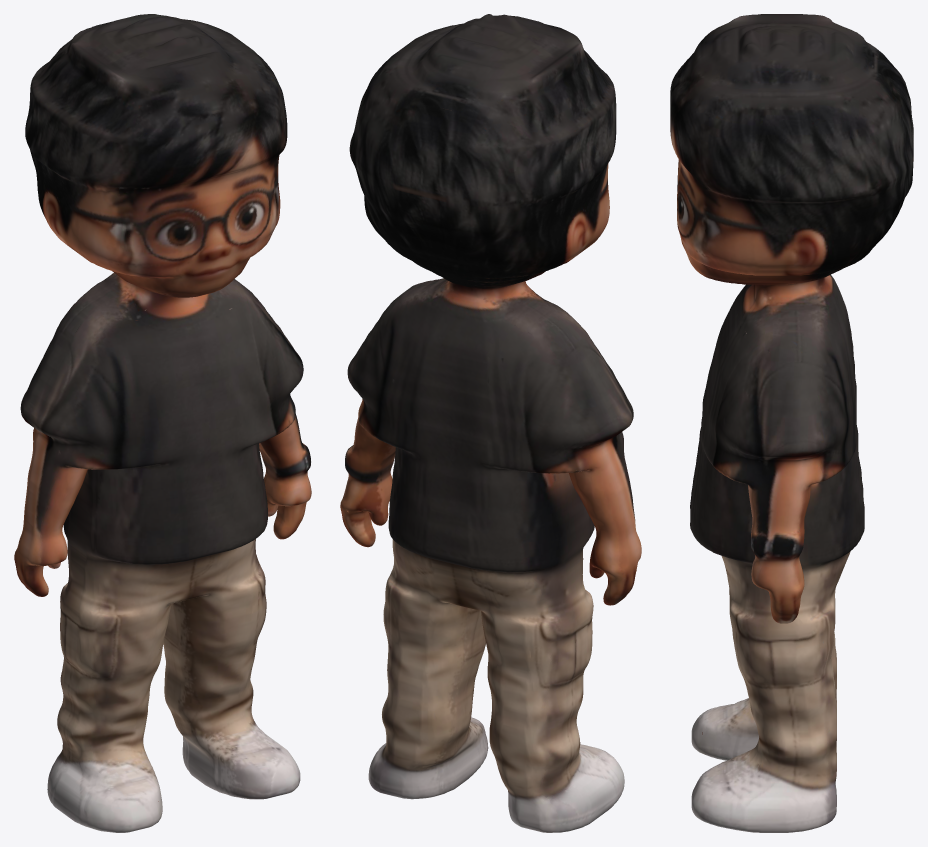
The model's file is character_high.glb.
3 views of the same model, side by side, from view 1: azimuth 30°, elevation 25°; view 2: azimuth 150°, elevation 25°; view 3: azimuth 270°, elevation 25° (orthographic). The views are drawn at different scales.
Parts seen in each view (by area): view 1: character_high; view 2: character_high; view 3: character_high.
Part boxes in pixels (x1,y1,x2,y2): character_high: (14, 14, 311, 832); character_high: (340, 14, 641, 832); character_high: (670, 14, 913, 832).
Bounding box in the file's own units: 0.3902 × 0.9997 × 0.2944.
Materials: 1 (1 with a texture image).
